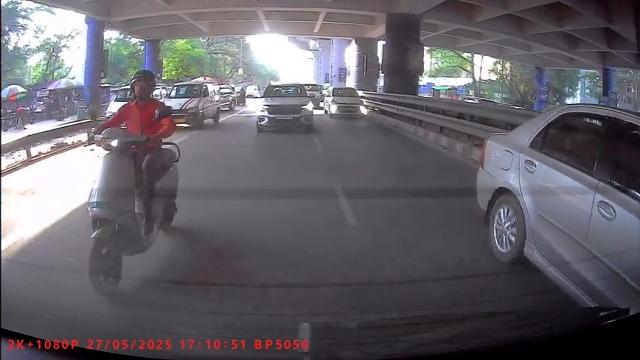motorcycle_with_helmet: (87, 70, 177, 297)
